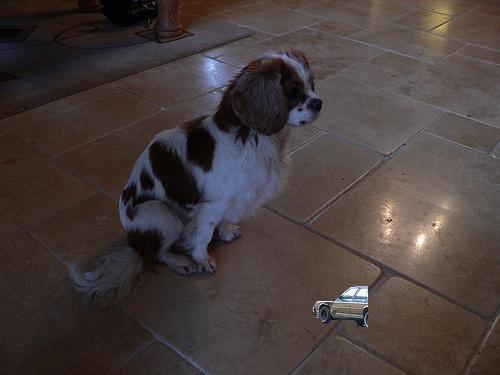tampered: (313, 287, 368, 327)
